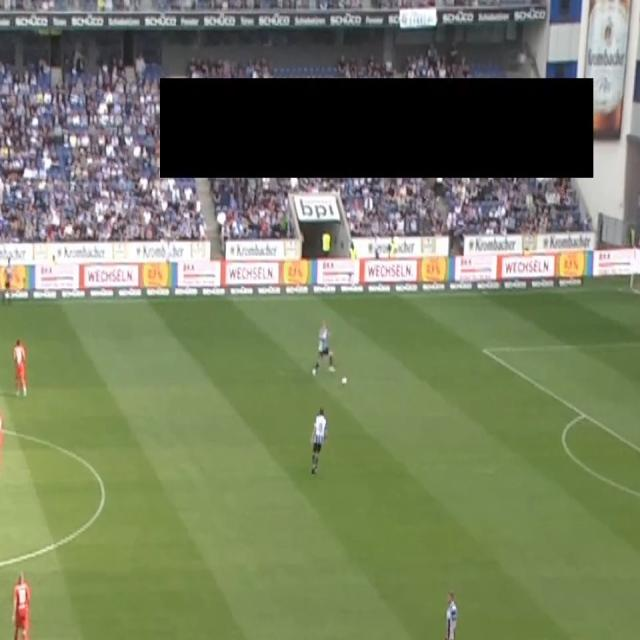ball: (341, 376, 347, 388)
